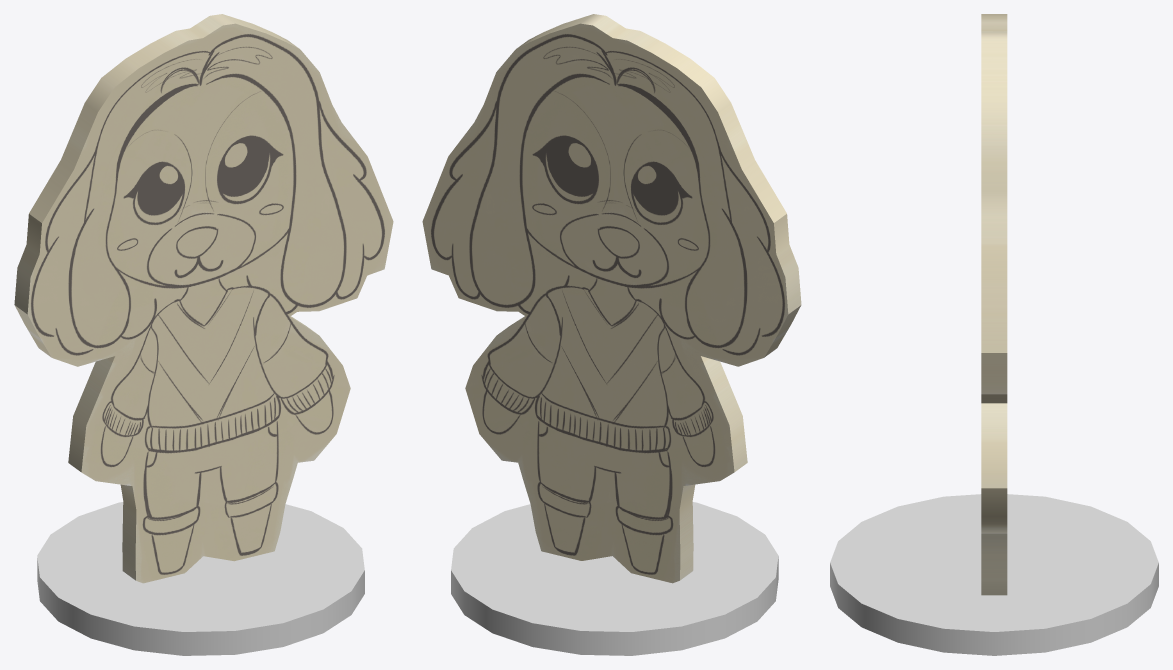
Rendered from CockerSpanielNPC.fbx.
The picture shows the model from 3 angles, left to right: view 1: azimuth 30°, elevation 25°; view 2: azimuth 150°, elevation 25°; view 3: azimuth 270°, elevation 25°; orthographic projection.
Visible parts, largest first — view 1: SpanielImage, SpanielStandee; view 2: SpanielImage, SpanielStandee; view 3: SpanielStandee, SpanielImage.
Boxes of the visible parts, bbox=[...] form: SpanielImage: bbox=[14, 14, 393, 583]; SpanielStandee: bbox=[37, 502, 364, 655]; SpanielImage: bbox=[422, 14, 801, 583]; SpanielStandee: bbox=[451, 502, 778, 655]; SpanielStandee: bbox=[830, 494, 1158, 655]; SpanielImage: bbox=[981, 14, 1007, 595].
Size of the model in its own units: 1.6 by 2.35 by 1.25.
